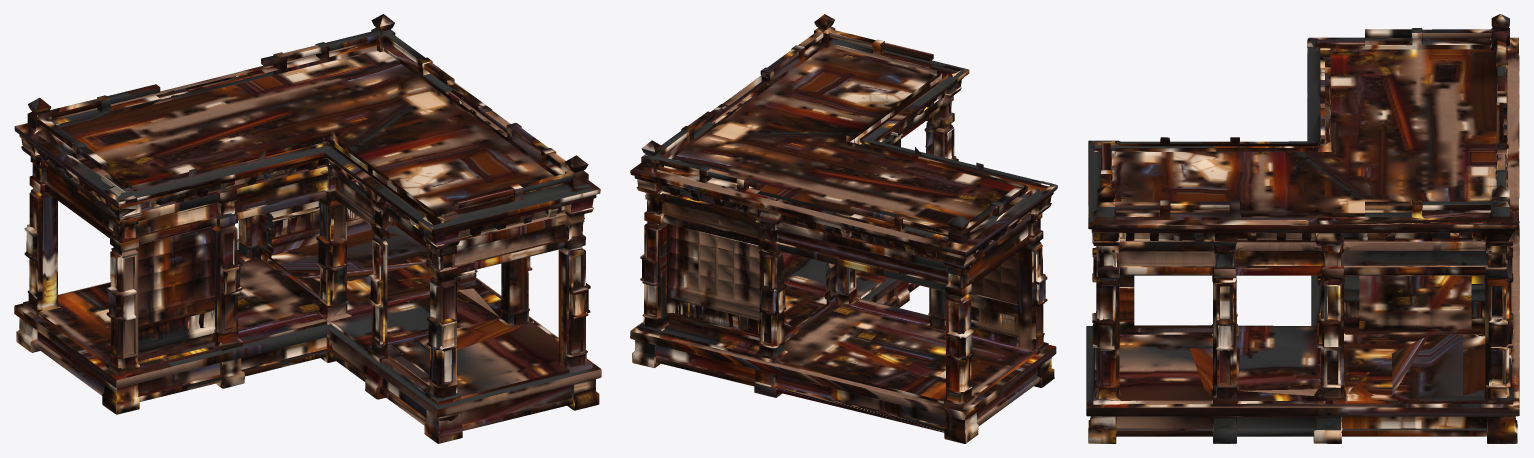
The model's file is HallWayWithTurn1_LOD0.fbx.
3 views of the same model, side by side, from view 1: azimuth 30°, elevation 25°; view 2: azimuth 150°, elevation 25°; view 3: azimuth 270°, elevation 25° (orthographic). The views are drawn at different scales.
Parts seen in each view (by area): view 1: HallWayWithTurn1_LOD0; view 2: HallWayWithTurn1_LOD0; view 3: HallWayWithTurn1_LOD0.
Part boxes in pixels (x1=…): HallWayWithTurn1_LOD0: x1=14, y1=14, x2=601, y2=443; HallWayWithTurn1_LOD0: x1=630, y1=14, x2=1057, y2=443; HallWayWithTurn1_LOD0: x1=1086, y1=14, x2=1519, y2=443.
Size of the model in its own units: 7.88 by 4.95 by 7.71.
Materials: 1 (1 with a texture image).
